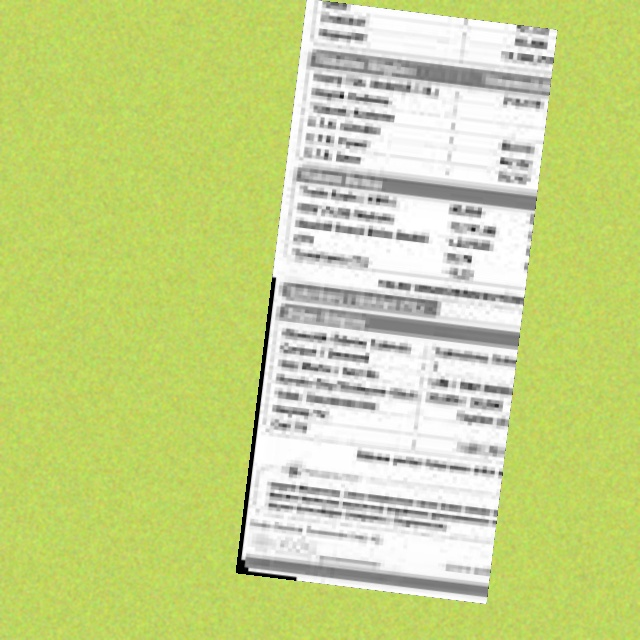electricity-bill: (235, 0, 557, 604)
